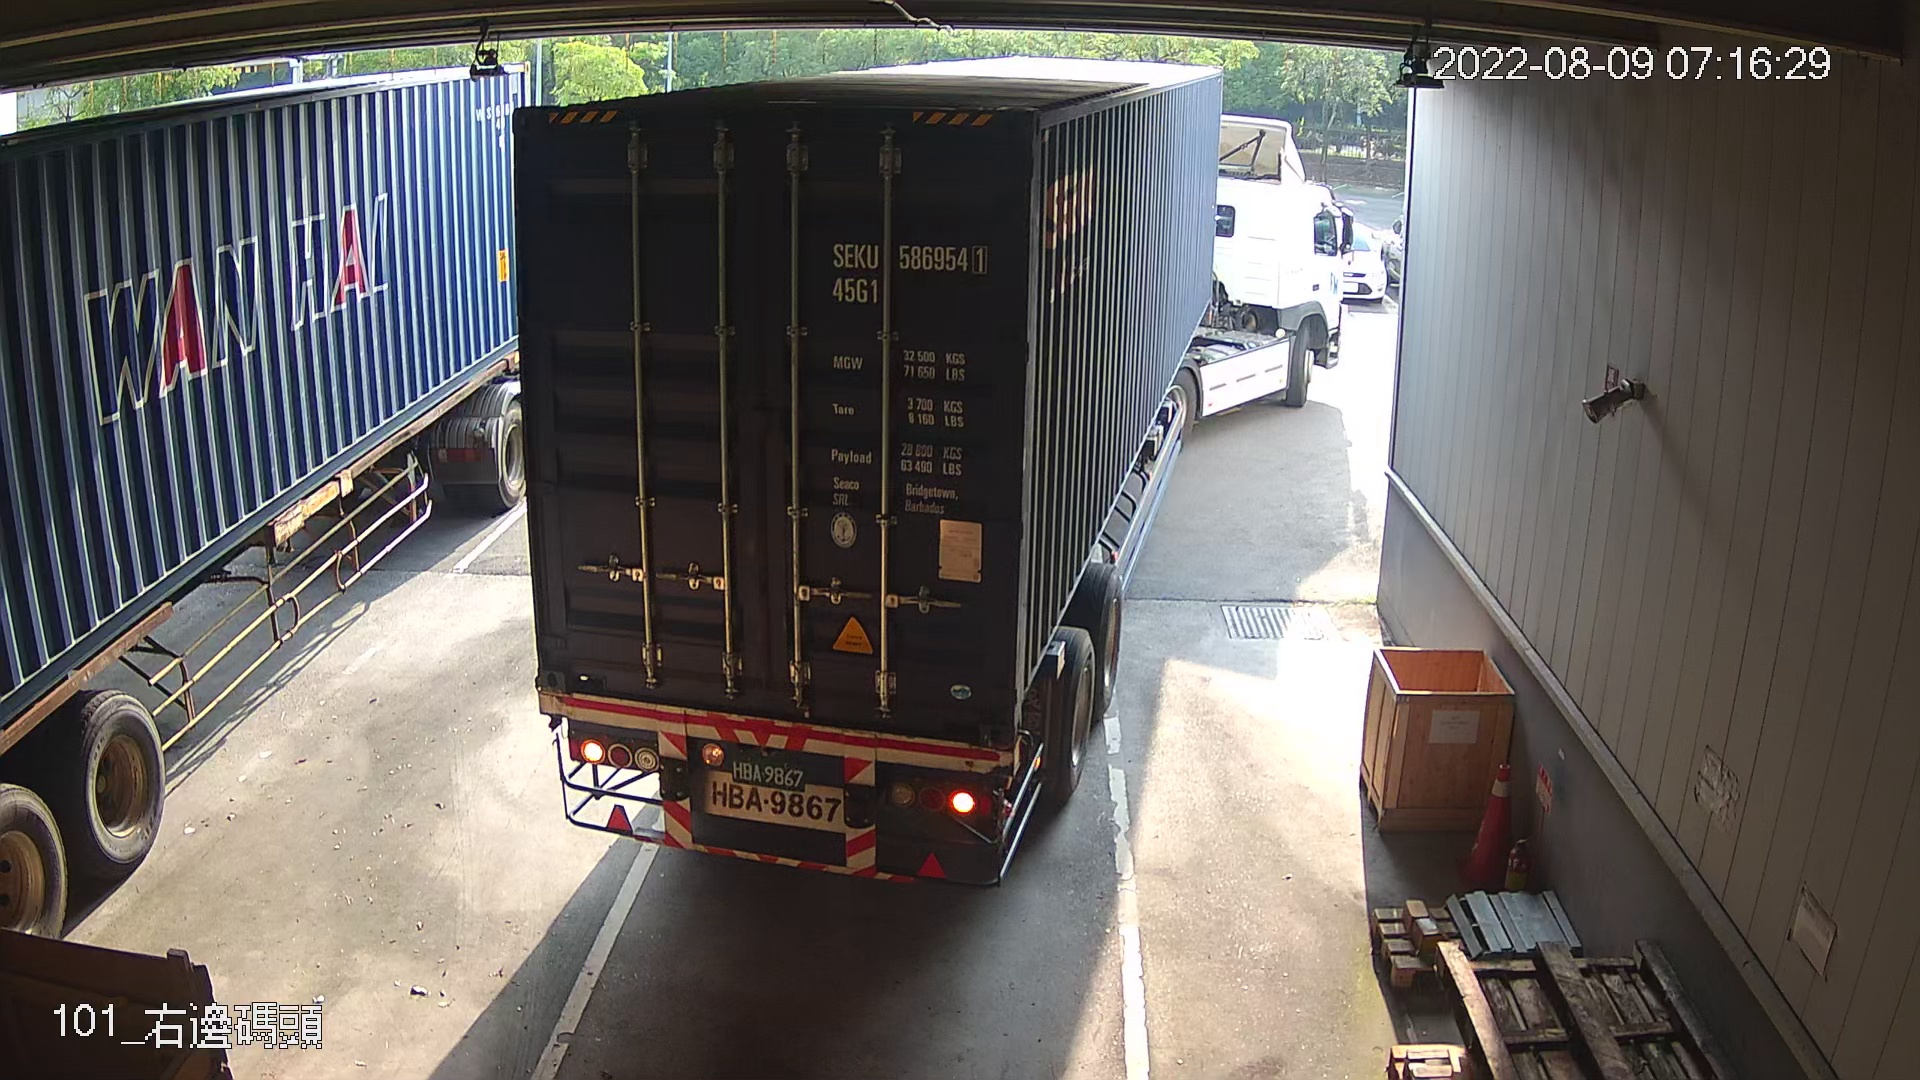container: (820, 229, 998, 320)
